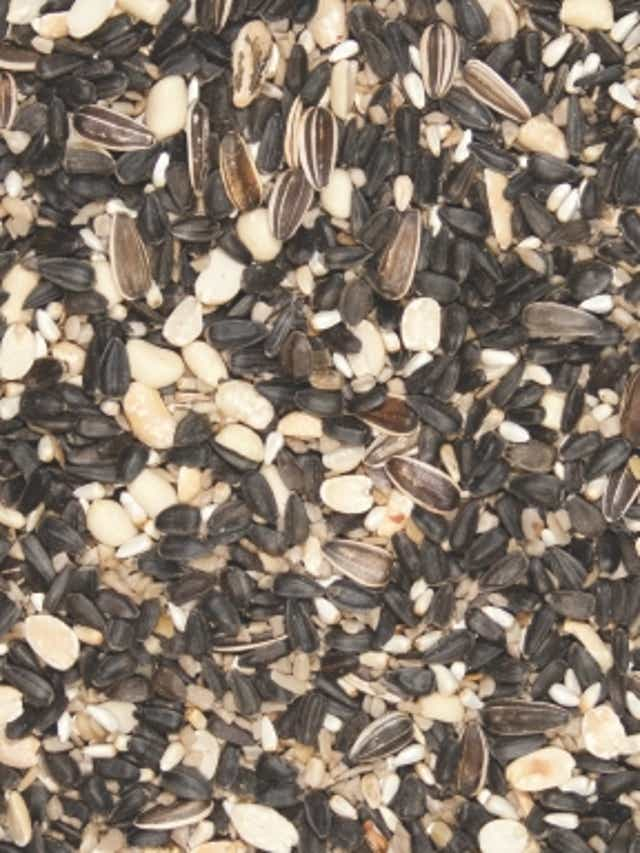seed: (1, 1, 640, 853)
